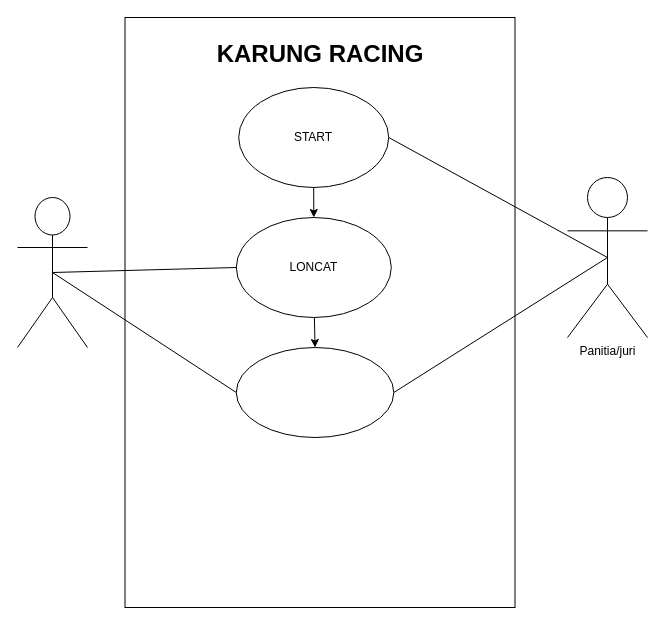
Some shapes in this 665 by 625 pixel diagram are drawn without their labels. The shapes that lost their labels are listed below. From the top down, each one's box as (x1, y1, x2, y2) in pixels, then its label:
(16, 196, 88, 348): Racers
(235, 346, 394, 438): FINISH
